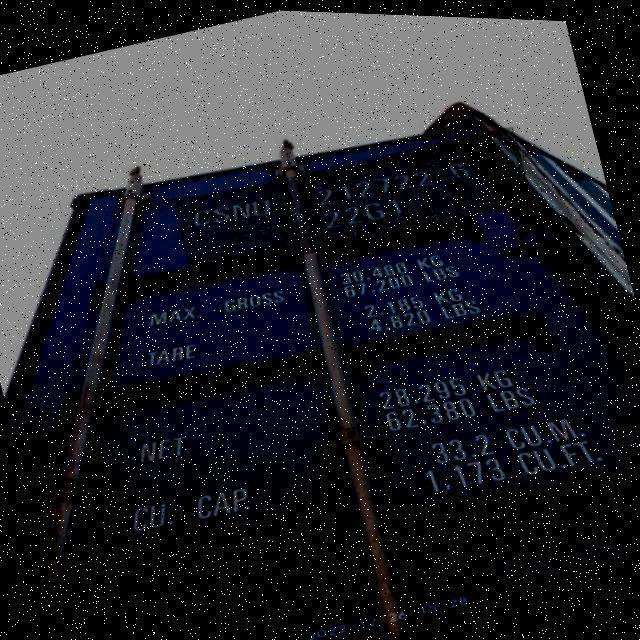container_number_h: (173, 112, 533, 289)
